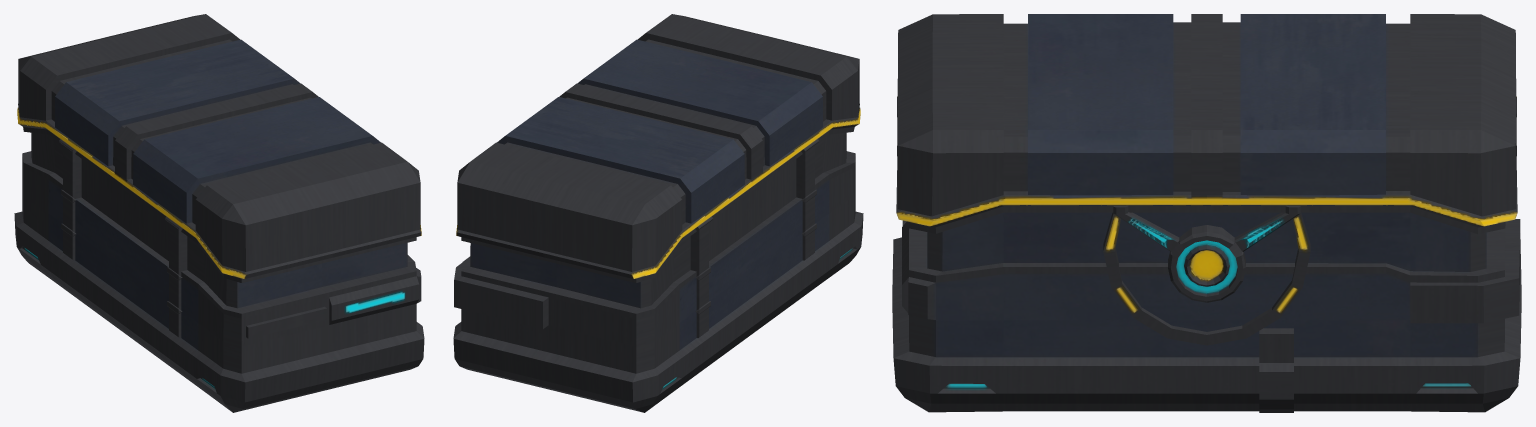
File: loot_crate.glb
3 views of the same model, side by side, from view 1: azimuth 30°, elevation 25°; view 2: azimuth 150°, elevation 25°; view 3: azimuth 270°, elevation 25° (orthographic). The views are drawn at different scales.
Parts seen in each view (by area): view 1: Lid.001, Body.001, Decor.005, Hinges.001; view 2: Lid.001, Body.001, Decor.003, Hinges.001; view 3: Lid.001, Body.001, PowerCell.001, Decor.003, PowerCellHalo.001, Decor.004, Decor.005.
Part boxes in pixels (left/top/right/bottom): Lid.001: left=17, top=14, right=421, bottom=278; Body.001: left=14, top=127, right=424, bottom=412; Decor.005: left=246, top=276, right=419, bottom=338; Hinges.001: left=59, top=139, right=182, bottom=337; Lid.001: left=456, top=14, right=860, bottom=278; Body.001: left=453, top=127, right=863, bottom=412; Decor.003: left=454, top=262, right=548, bottom=328; Hinges.001: left=695, top=139, right=818, bottom=337; Lid.001: left=896, top=14, right=1517, bottom=227; Body.001: left=892, top=206, right=1521, bottom=412; PowerCell.001: left=1113, top=205, right=1300, bottom=302; Decor.003: left=1410, top=219, right=1520, bottom=323; PowerCellHalo.001: left=1103, top=212, right=1310, bottom=345; Decor.004: left=1259, top=328, right=1293, bottom=412; Decor.005: left=902, top=220, right=908, bottom=312.
Size of the model in its own units: 0.5478 by 0.5163 by 1.05.
2 materials, 2 textured.
